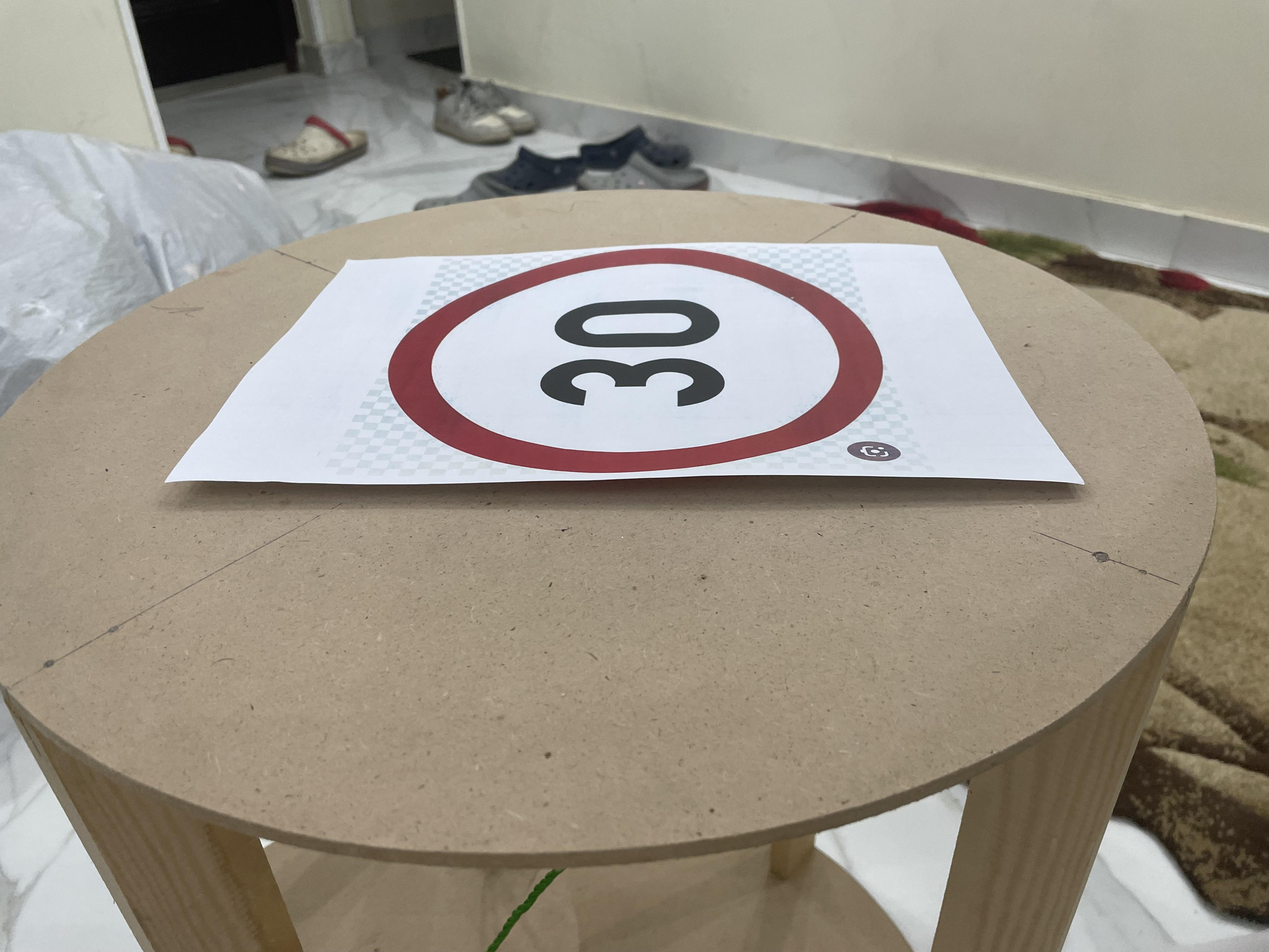30-speed: (380, 241, 887, 480)
